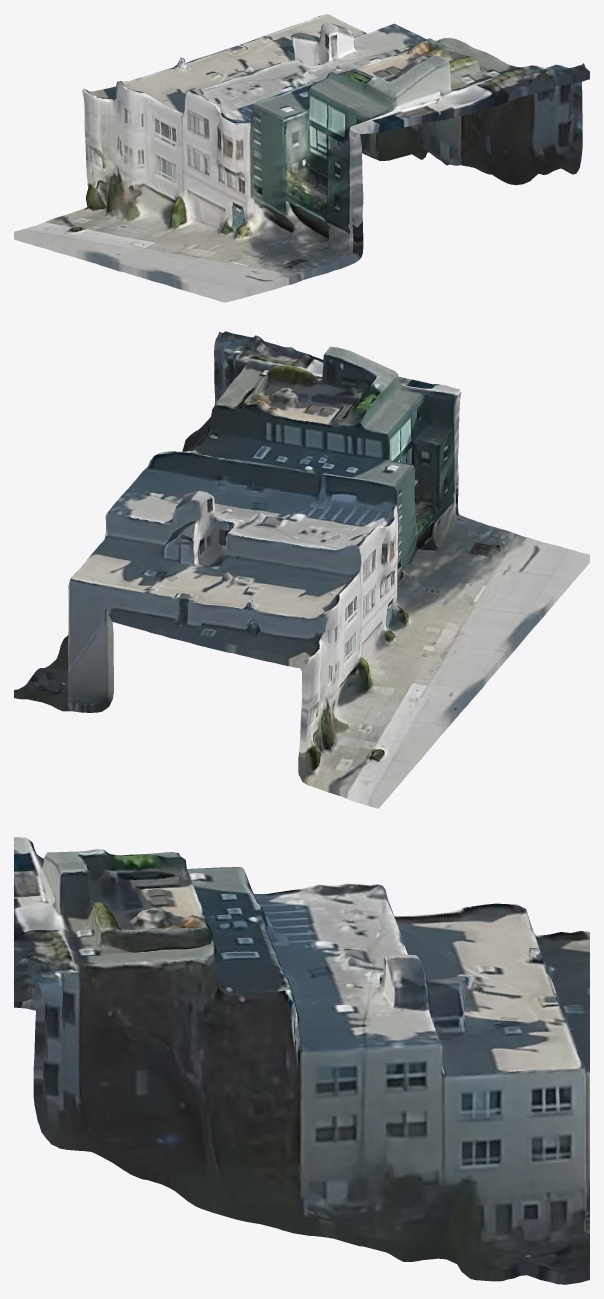
Rendered from z20-167750-405197-h0-yup-uvflip-v3-world.glb.
3 renders of one model, top to bottom at view 1: azimuth 30°, elevation 25°; view 2: azimuth 150°, elevation 25°; view 3: azimuth 270°, elevation 25°, orthographic. The views are drawn at different scales.
Size of the model in its own units: 30.16 by 20.72 by 30.32.
1 material, 1 textured.
